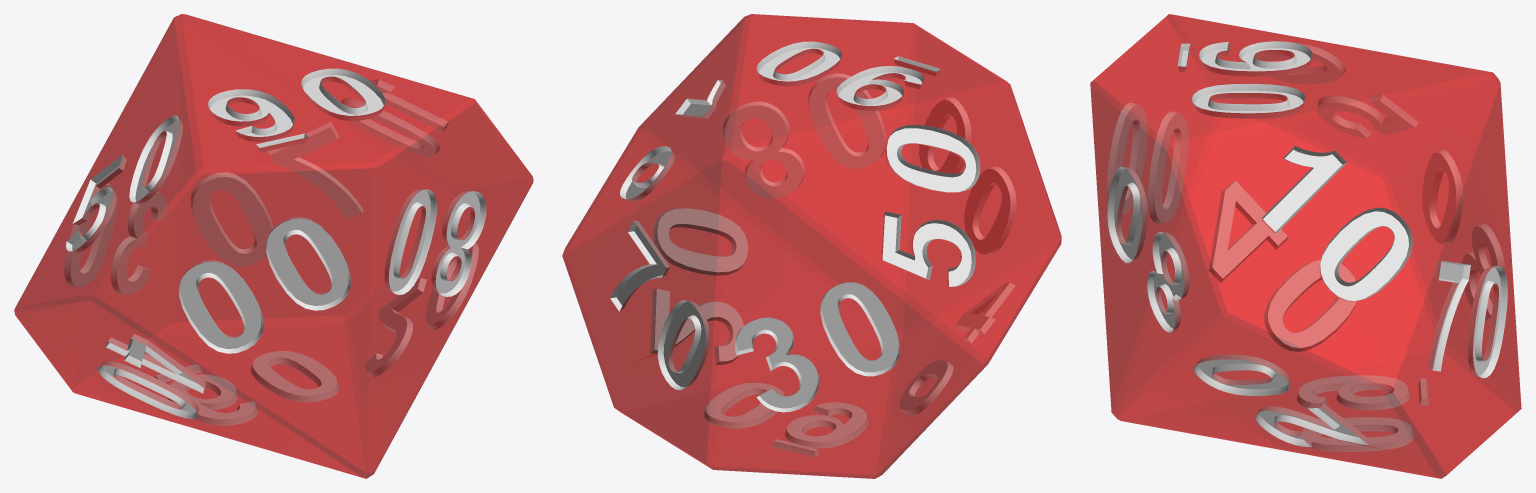
3 views of the same model, side by side, from view 1: azimuth 30°, elevation 25°; view 2: azimuth 150°, elevation 25°; view 3: azimuth 270°, elevation 25° (orthographic). The views are drawn at different scales.
Parts seen in each view (by area): view 1: export.008; view 2: export.008; view 3: export.008.
Part boxes in pixels (<box>): export.008: <box>14,14,533,478</box>; export.008: <box>562,14,1061,478</box>; export.008: <box>1090,14,1521,478</box>.
Size of the model in its own units: 0.0593 by 0.0427 by 0.0483.
